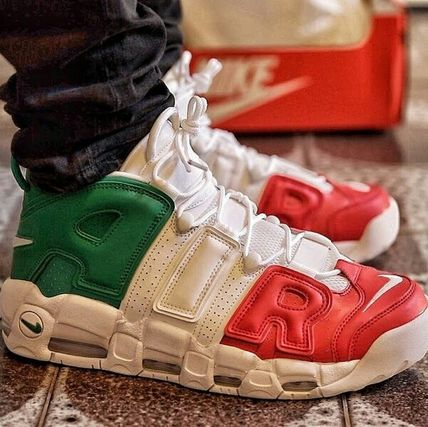Nike Air Uptempo '96 Italy: (1, 126, 427, 410)
